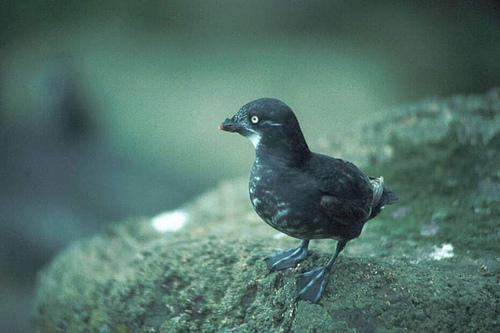006.Least_Auklet: (222, 97, 400, 305)
